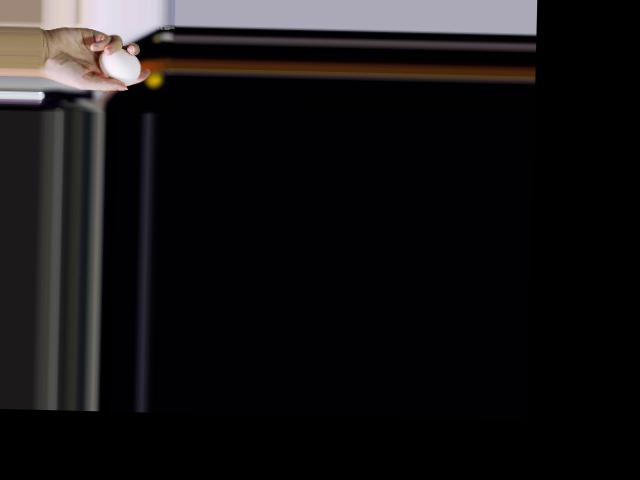egg: (99, 48, 142, 83)
